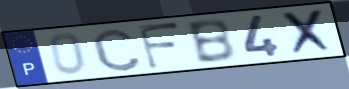0: (47, 31, 89, 78)
4: (242, 13, 286, 59)
B: (184, 18, 239, 66)
C: (89, 27, 145, 73)
F: (135, 21, 184, 71)
X: (279, 7, 337, 57)
